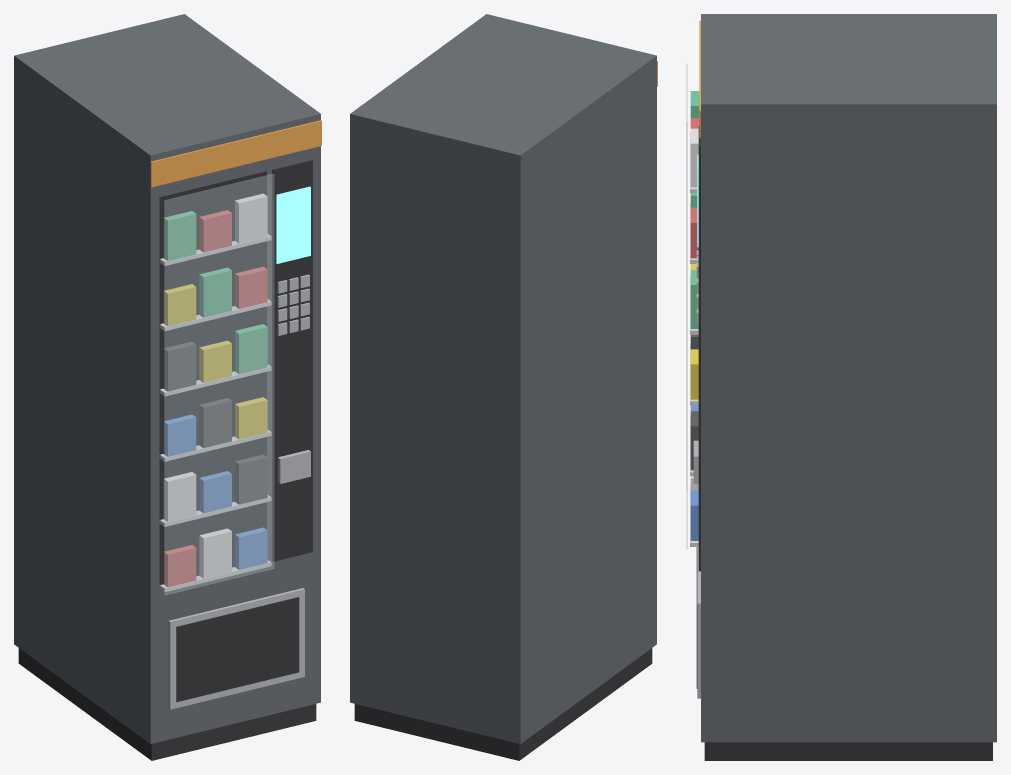
Rendered from maquina-57x79.glb.
3 views of the same model, side by side, from view 1: azimuth 30°, elevation 25°; view 2: azimuth 150°, elevation 25°; view 3: azimuth 270°, elevation 25° (orthographic). The views are drawn at different scales.
Visible parts, largest first — view 1: corpo, vidro, fundo_vitrine, painel, retirada, base, faixa, retirada_moldura, tela, produto3_0, produto5_0, produto1_0 (+22 smaller); view 2: corpo, base; view 3: corpo, base, painel, vidro, retirada_moldura.
Boxes of the visible parts, <box> form: corpo: <box>14,14,320,743</box>; vidro: <box>164,174,274,595</box>; fundo_vitrine: <box>159,171,266,584</box>; painel: <box>272,160,312,561</box>; retirada: <box>176,597,299,702</box>; base: <box>18,648,316,760</box>; faixa: <box>150,120,321,187</box>; retirada_moldura: <box>168,588,304,709</box>; tela: <box>276,186,310,263</box>; produto3_0: <box>163,341,196,391</box>; produto5_0: <box>163,211,196,260</box>; produto1_0: <box>163,472,196,521</box>; corpo: <box>350,14,656,743</box>; base: <box>354,648,652,760</box>; corpo: <box>701,14,996,742</box>; base: <box>704,742,992,760</box>; painel: <box>698,126,700,571</box>; vidro: <box>686,64,687,548</box>; retirada_moldura: <box>697,547,700,698</box>.
Bounding box in the file's own units: 0.57 × 1.94 × 0.83.
